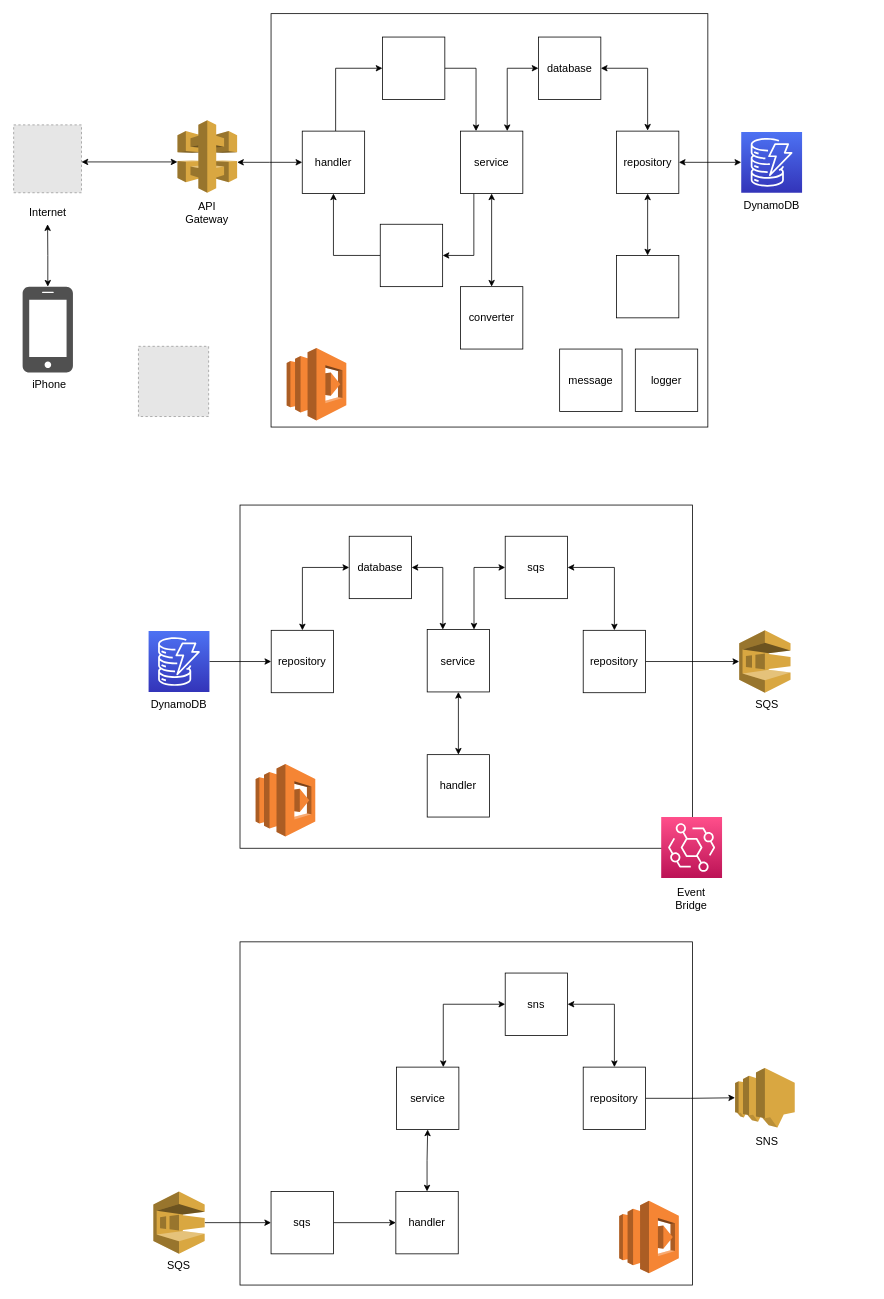
The diagram is 884 pixels wide and 1299 high, and some of its shapes have lost their labels. Grey dashed boxes stand in for pictures. The box of each missing label's shape, as (x1, y1, x2, y2) in pixels:
request: (382, 36, 445, 99)
response: (379, 223, 443, 287)
validation: (616, 255, 679, 318)
